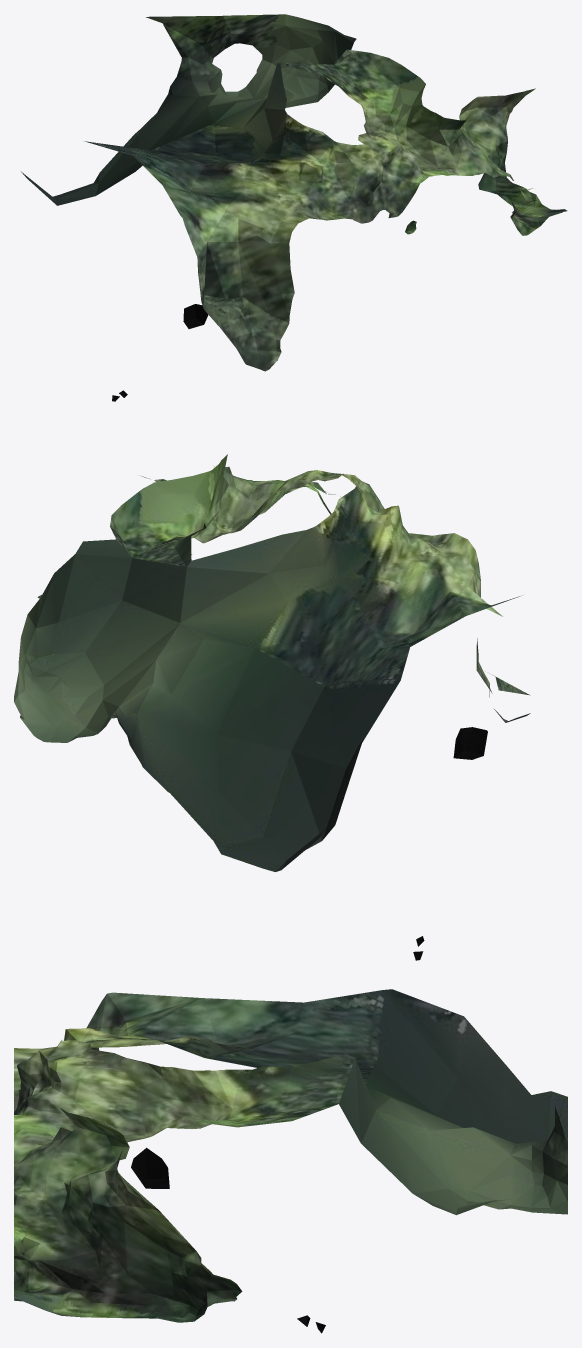
3 renders of one model, top to bottom at view 1: azimuth 30°, elevation 25°; view 2: azimuth 150°, elevation 25°; view 3: azimuth 270°, elevation 25°, orthographic. The views are drawn at different scales.
Bounding box in the file's own units: 26.11 × 20.57 × 26.11.
Materials: 3 (3 with a texture image).
